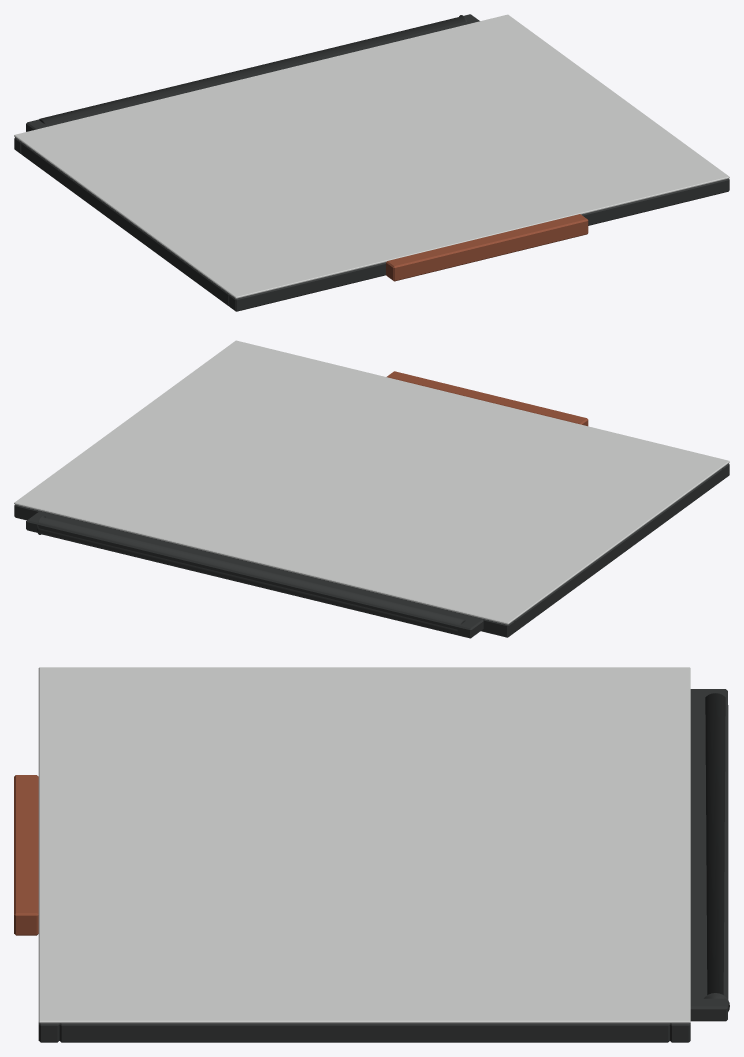
Rendered from dual_compartment_bin_tall_narrow_lid.glb.
3 renders of one model, top to bottom at view 1: azimuth 30°, elevation 25°; view 2: azimuth 150°, elevation 25°; view 3: azimuth 270°, elevation 25°, orthographic. The views are drawn at different scales.
Parts seen in each view (by area): view 1: dual_compartment_bin_tall_narrow_lid; view 2: dual_compartment_bin_tall_narrow_lid; view 3: dual_compartment_bin_tall_narrow_lid.
Boxes of the visible parts, box(x1,y1,x2,y2) form: dual_compartment_bin_tall_narrow_lid: box(14, 14, 729, 311); dual_compartment_bin_tall_narrow_lid: box(14, 340, 729, 638); dual_compartment_bin_tall_narrow_lid: box(14, 667, 729, 1042).
Bounding box in the file's own units: 0.405 × 0.014 × 0.346.
